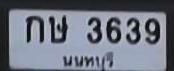3: (125, 16, 140, 44), (86, 16, 101, 43)
6: (105, 16, 120, 42)
9: (144, 17, 159, 43)
A01: (25, 15, 43, 42)
A39: (48, 14, 67, 42)
NBI: (59, 51, 118, 71)
